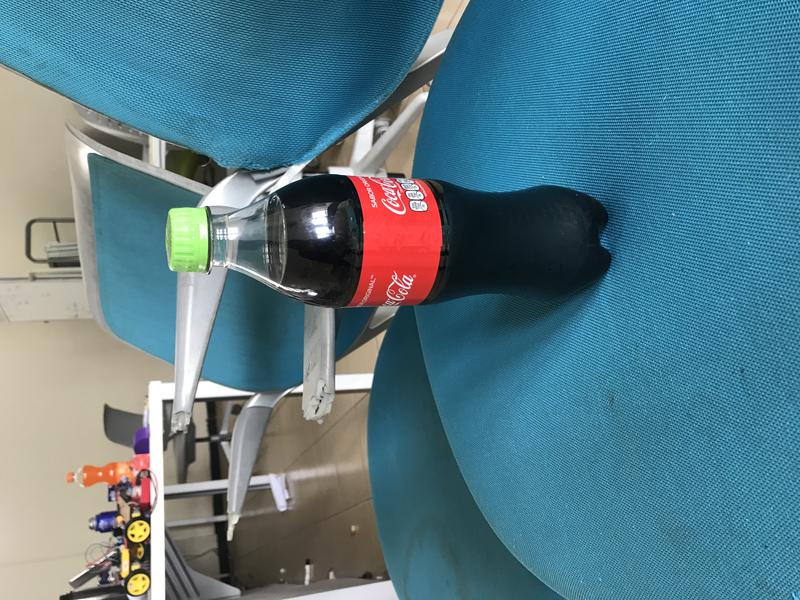coca_cola: (164, 175, 614, 310)
